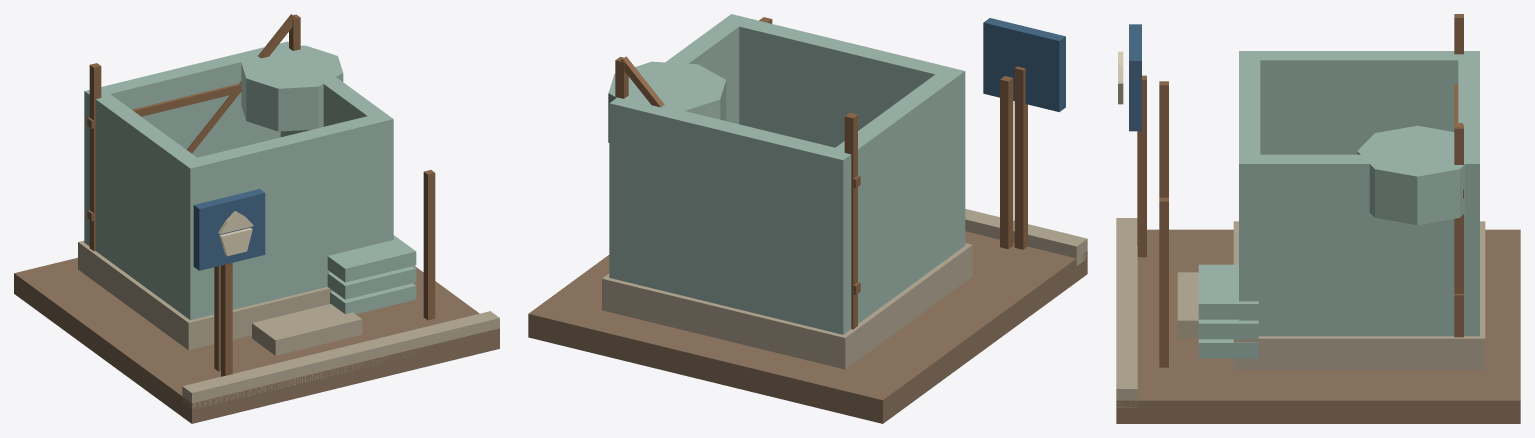
Rendered from patisserie-seabreeze-half-built.glb.
The picture shows the model from 3 angles, left to right: view 1: azimuth 30°, elevation 25°; view 2: azimuth 150°, elevation 25°; view 3: azimuth 270°, elevation 25°; orthographic projection. The views are drawn at different scales.
Parts seen in each view (by area): view 1: patisserie; view 2: patisserie; view 3: patisserie.
Part boxes in pixels (left/top/right/bottom): patisserie: left=14, top=14, right=499, bottom=423; patisserie: left=528, top=14, right=1087, bottom=423; patisserie: left=1116, top=14, right=1520, bottom=423.
Bounding box in the file's own units: 1.88 × 1.38 × 1.88.
